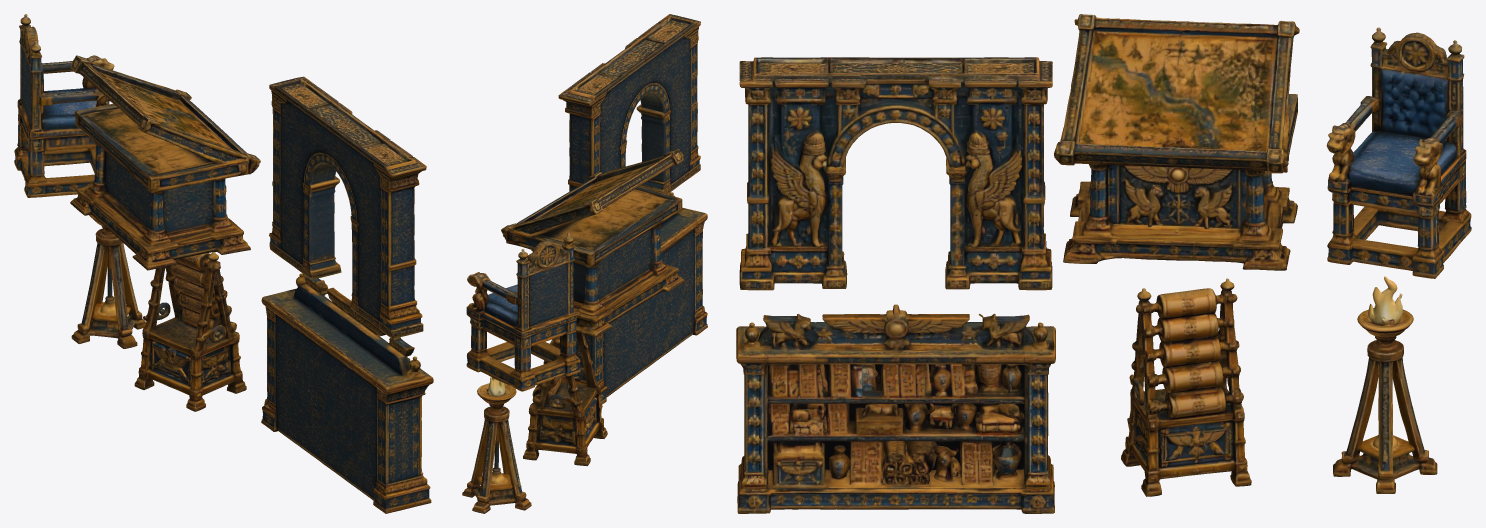
The model's file is اثاث_الخرائط.glb.
The picture shows the model from 3 angles, left to right: view 1: azimuth 30°, elevation 25°; view 2: azimuth 150°, elevation 25°; view 3: azimuth 270°, elevation 25°; orthographic projection. The views are drawn at different scales.
Visible parts, largest first — view 1: world; view 2: world; view 3: world.
Part boxes in pixels (x1,y1,x2,y2): world: [14, 14, 433, 513]; world: [462, 14, 707, 513]; world: [736, 14, 1471, 513].
Bounding box in the file's own units: 0.3125 × 0.6502 × 0.9995.
Materials: 1 (1 with a texture image).
